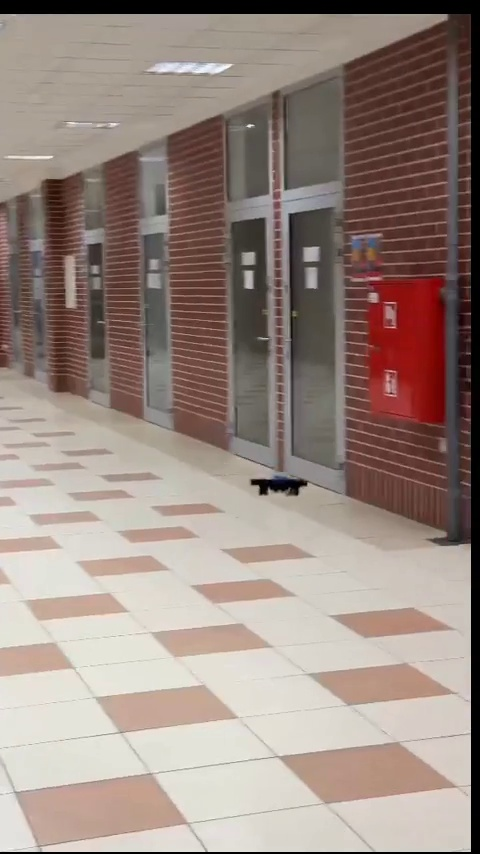drone: (246, 473, 307, 500)
